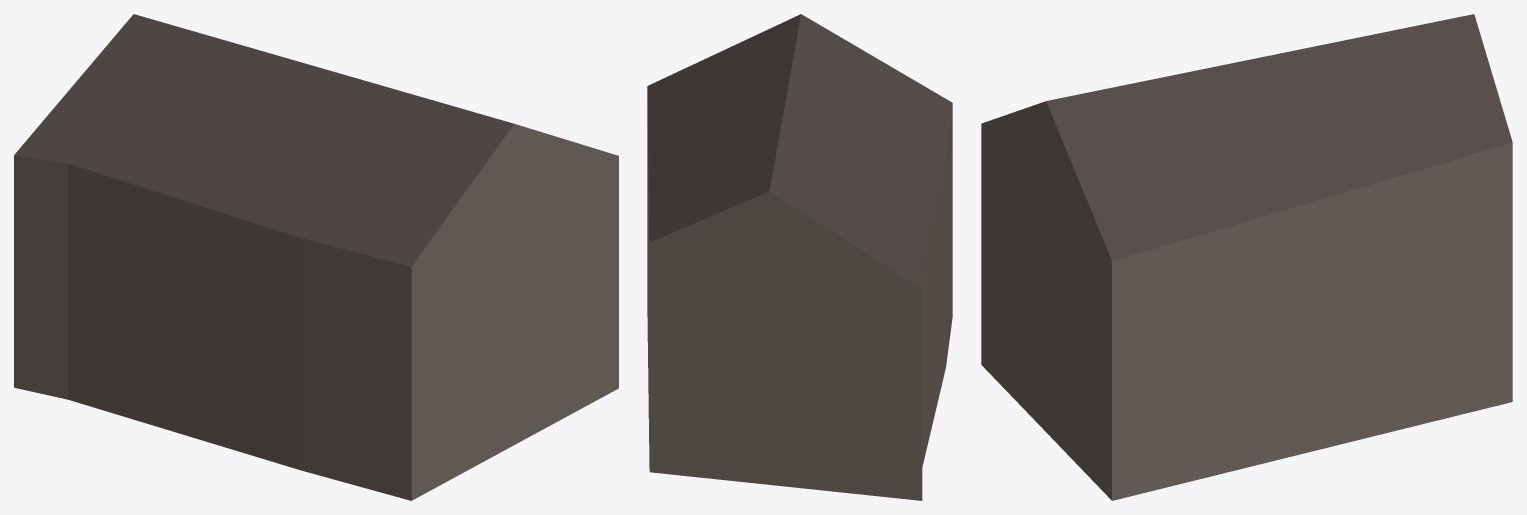
3 views of the same model, side by side, from view 1: azimuth 30°, elevation 25°; view 2: azimuth 150°, elevation 25°; view 3: azimuth 270°, elevation 25° (orthographic). The views are drawn at different scales.
Parts seen in each view (by area): view 1: HP-w1513026720; view 2: HP-w1513026720; view 3: HP-w1513026720.
Boxes of the visible parts, x1,y1,x2,y2 form: HP-w1513026720: (14, 14, 618, 500); HP-w1513026720: (647, 14, 952, 500); HP-w1513026720: (981, 14, 1512, 500).
Size of the model in its own units: 12.23 by 8.29 by 12.06.
